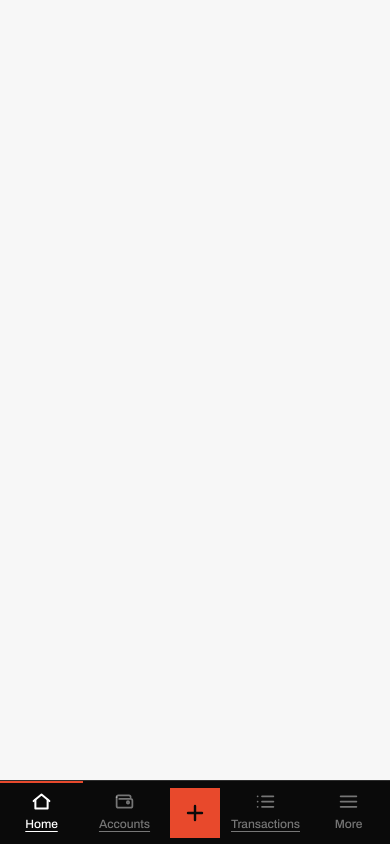
Test: BottomNav › lists Help in the "More" sheet, linking to the help page
Click the button "More": click(348, 812) [307,781,389,843]
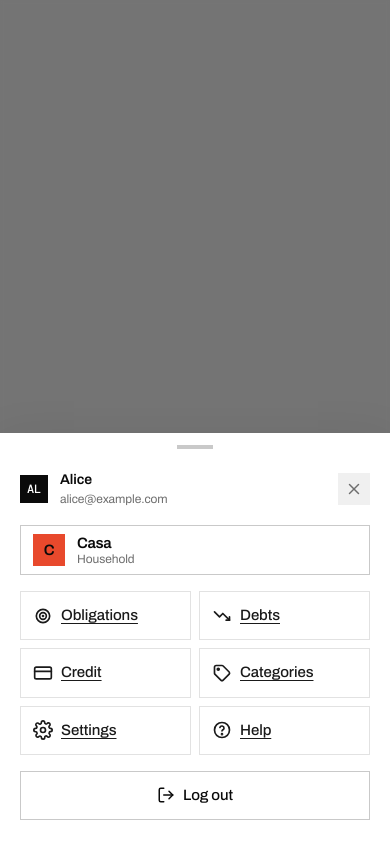
Check: the link "Help" is shown, box [199,706,370,755]
